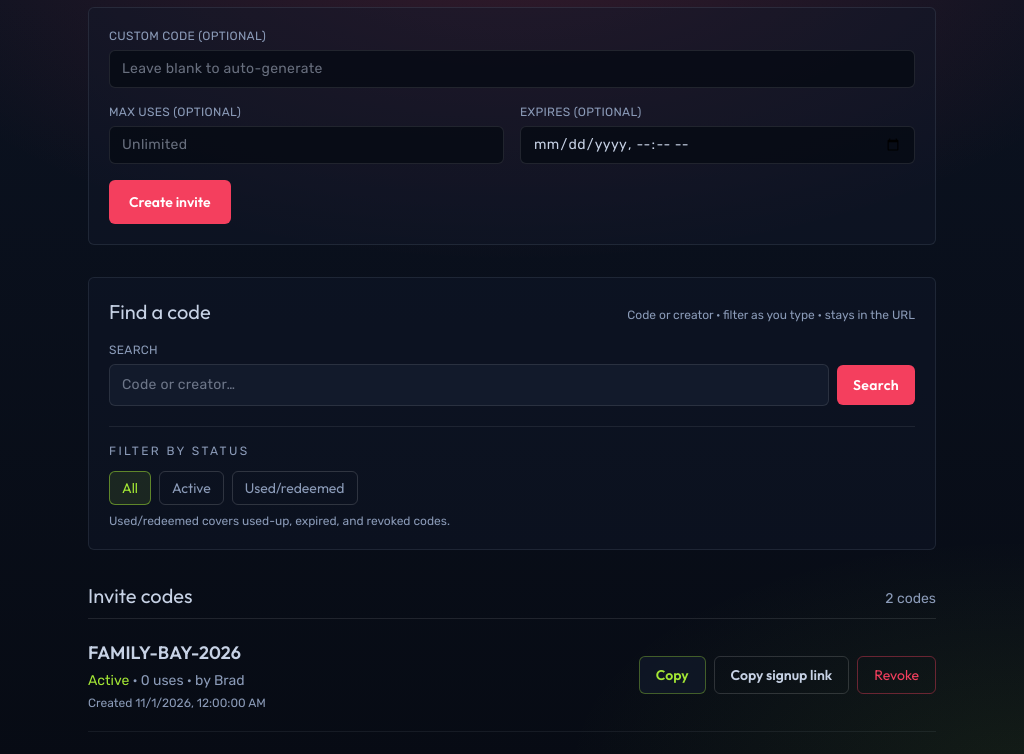
Test case: AdminInvitesPage › searches codes and filters with status chips
(page scrolled)
expect the heading "Find a code" is shown: met, box [109,298,211,326]
expect the text "FAMILY-BAY-2026" is shown: met, box [88,638,266,666]
In the search field named "Search invite codes by code or creator": point(469, 384) [109,364,829,406], type "family"
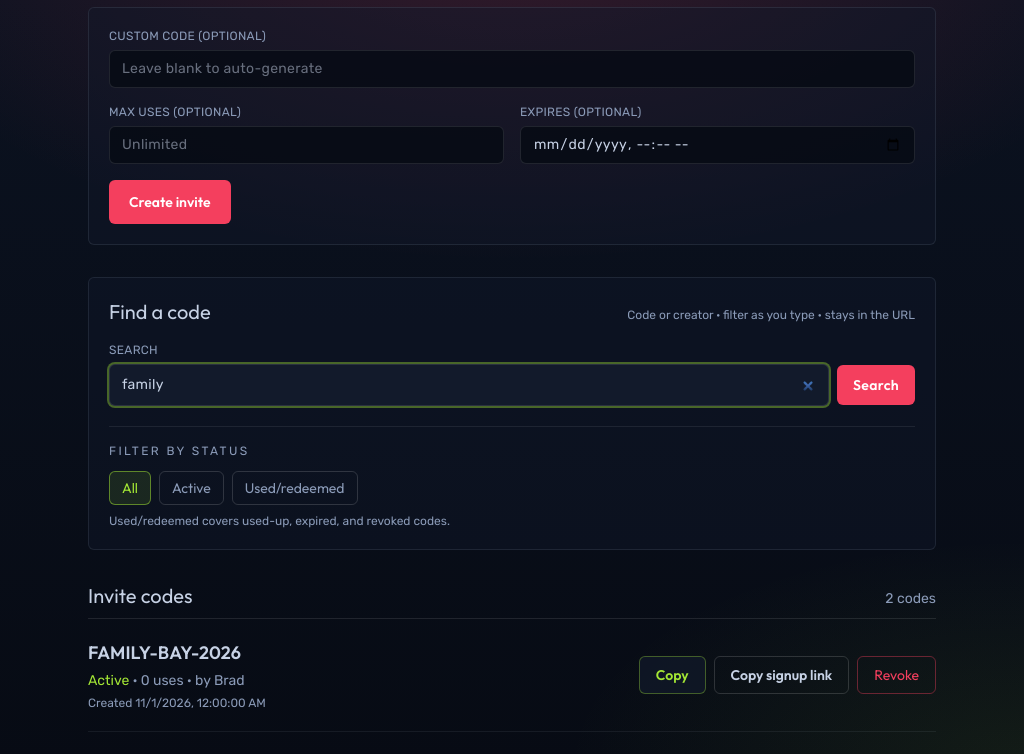
Click the button "Search": point(876, 384) [837,364,915,404]
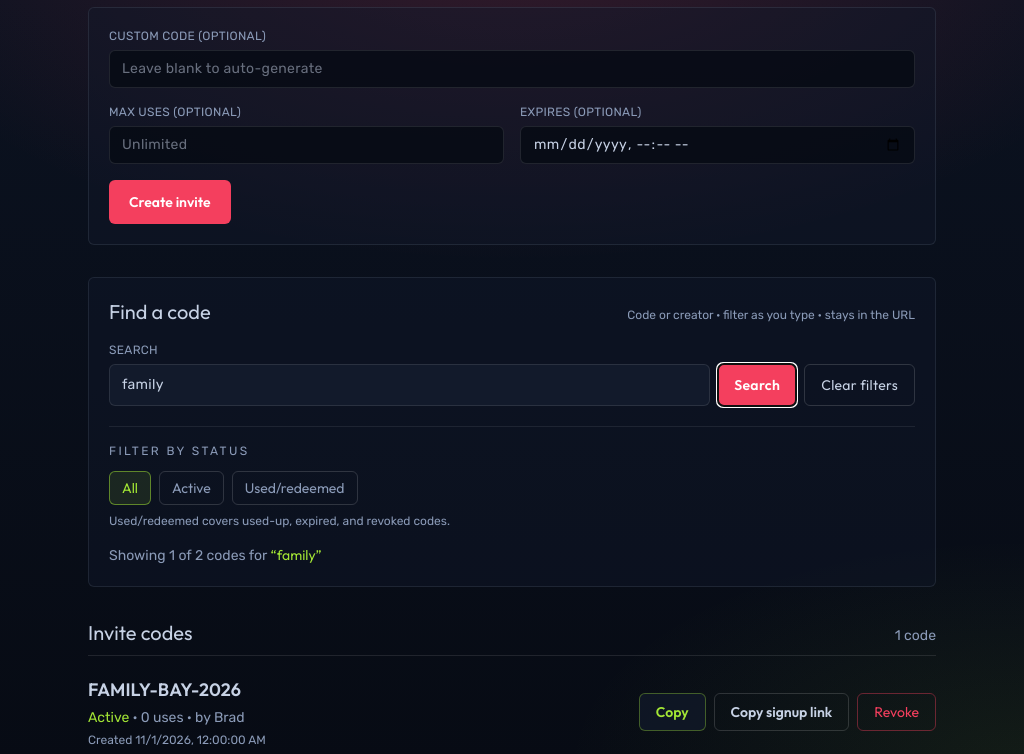
expect the text "FAMILY-BAY-2026" is shown: met, box [88,676,266,704]
Click the button "Clear filters": point(860, 384) [804,364,915,406]
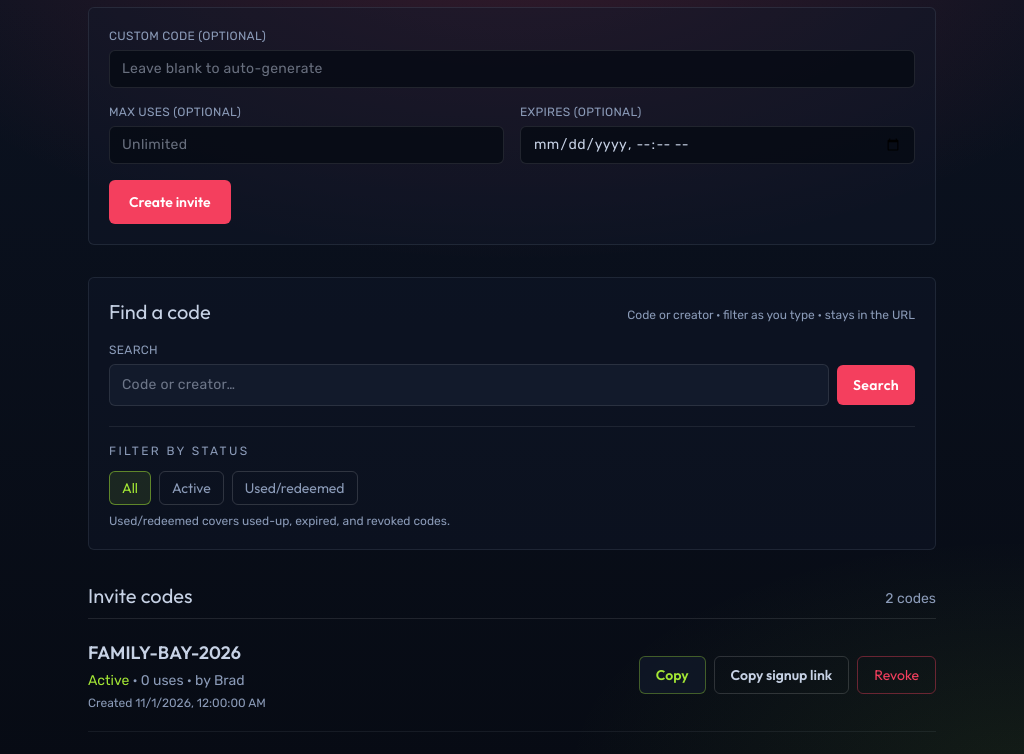
Click the button "Used/redeemed": point(295, 488) [232,470,358,504]
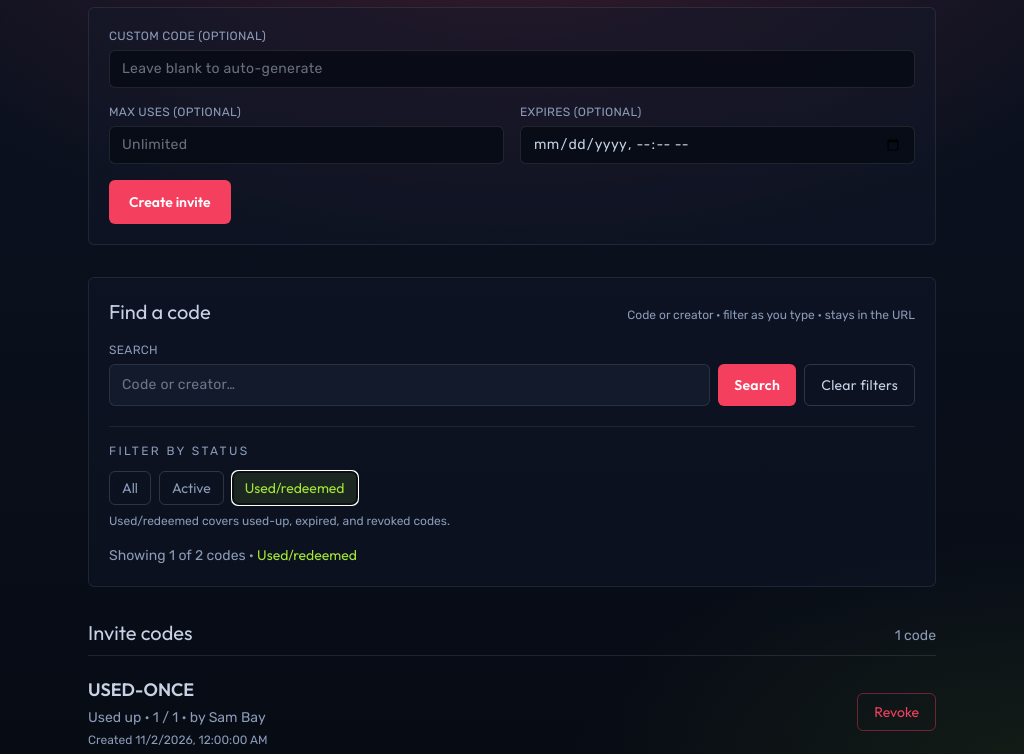
expect the text "USED-ONCE" is shown: met, box [88,678,194,700]
expect the text "FAMILY-BAY-2026" is gone: met
